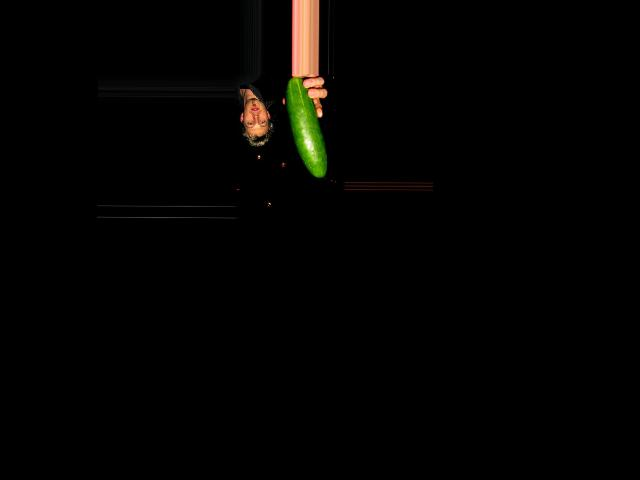cucumber: (286, 77, 328, 177)
